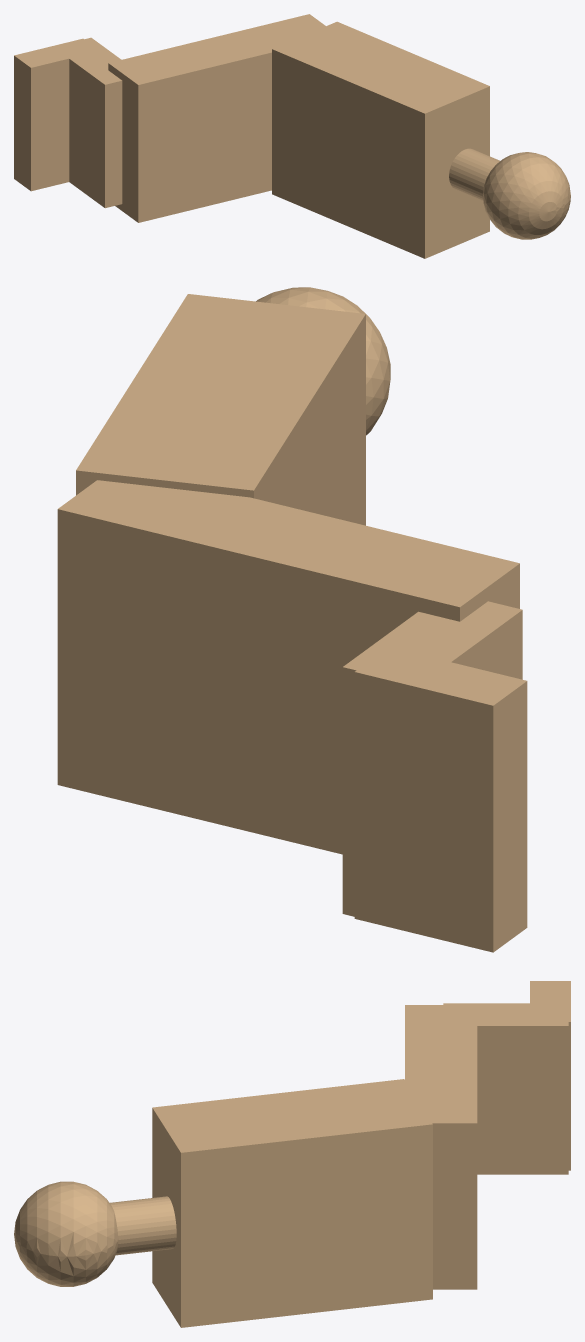
File: OCC.glb
3 views of the same model, one above another, from view 1: azimuth 30°, elevation 25°; view 2: azimuth 150°, elevation 25°; view 3: azimuth 270°, elevation 25° (orthographic). The views are drawn at different scales.
Visible parts, largest first — view 1: geometry_0; view 2: geometry_0; view 3: geometry_0.
Part boxes in pixels (box(x1,y1,x2,y2)): geometry_0: box(14, 14, 570, 258); geometry_0: box(57, 287, 527, 952); geometry_0: box(14, 981, 570, 1327).
Size of the model in its own units: 986 by 400 by 1153.
